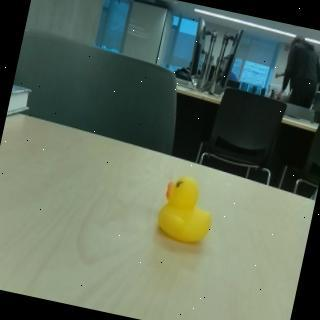duck_regular: (152, 171, 223, 251)
